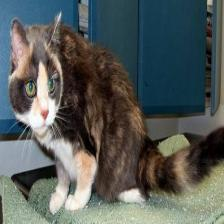cat: (8, 9, 69, 141)
